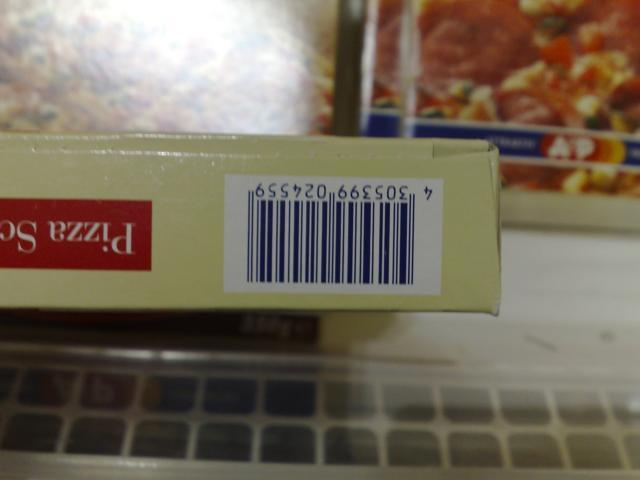Barcode: (225, 176, 441, 294)
